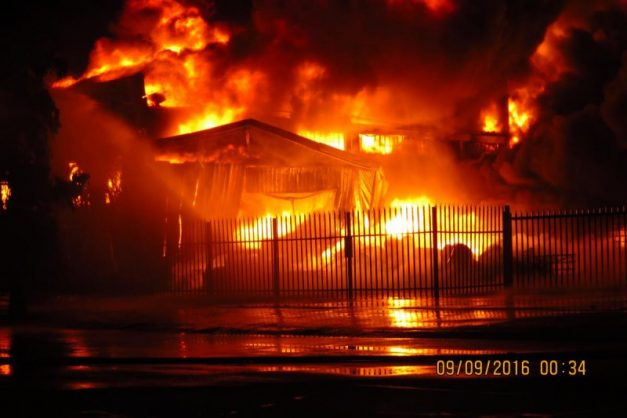Fire: (81, 54, 315, 97), (138, 5, 226, 52), (293, 124, 413, 155), (243, 207, 312, 244), (474, 99, 532, 140)
